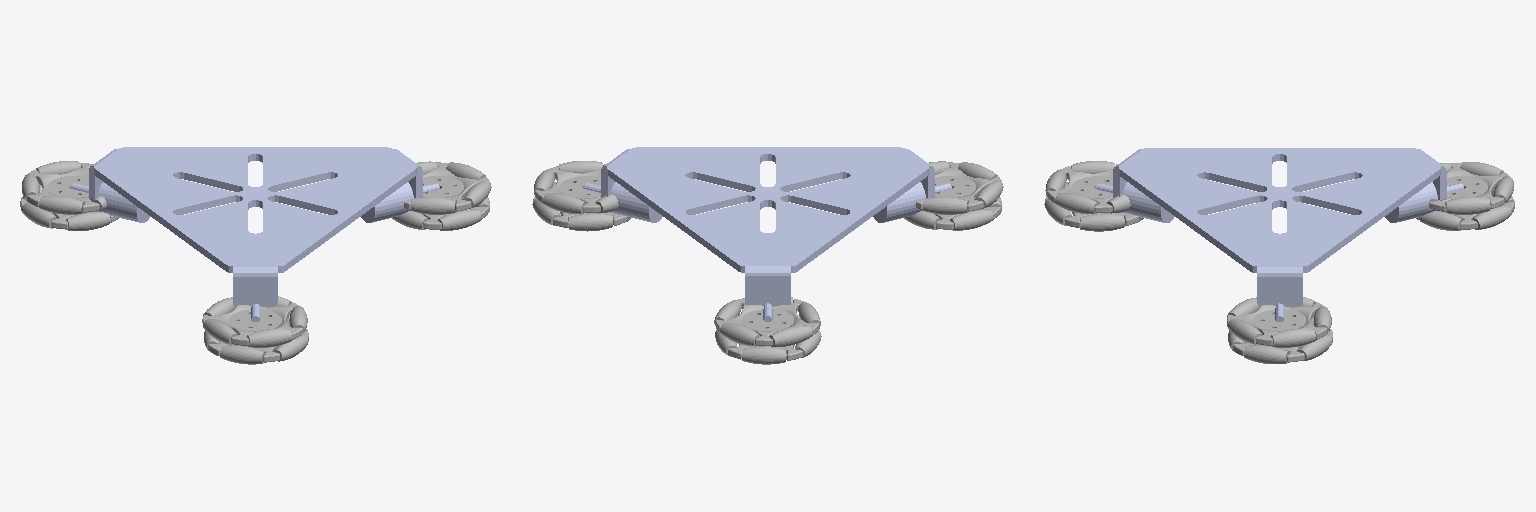
The robot description file, URDF, robot "my_robot":
<?xml version="1.0" encoding="utf-8"?>
<!-- This URDF was automatically created by SolidWorks to URDF Exporter! Originally created by [author] ([email redacted]) 
     Commit Version: 1.6.0-4-g7f85cfe  Build Version: 1.6.7995.38578
     For more information, please see http://wiki.ros.org/sw_urdf_exporter -->
<robot
  name="my_robot">
  <link
    name="base_link">
    <inertial>
      <origin
        xyz="-2.0457E-10 1.0027E-06 -0.010626"
        rpy="0 0 0" />
      <mass
        value="0.1739" />
      <inertia
        ixx="0.00038756"
        ixy="4.0592E-11"
        ixz="5.8826E-14"
        iyy="0.00038756"
        iyz="-2.0038E-12"
        izz="0.00076113" />
    </inertial>
    <visual>
      <origin
        xyz="0 0 0"
        rpy="0 0 0" />
      <geometry>
        <mesh
          filename="package://my_robot/meshes/base_link.STL" />
      </geometry>
      <material
        name="">
        <color
          rgba="0.79216 0.81961 0.93333 1" />
      </material>
    </visual>
    <collision>
      <origin
        xyz="0 0 0"
        rpy="0 0 0" />
      <geometry>
        <mesh
          filename="package://my_robot/meshes/base_link.STL" />
      </geometry>
    </collision>
  </link>
  <link
    name="one_wheel">
    <inertial>
      <origin
        xyz="-0.0065 -2.5059E-05 3.2713E-05"
        rpy="0 0 0" />
      <mass
        value="0.041916" />
      <inertia
        ixx="1.0241E-05"
        ixy="4.0511E-10"
        ixz="1.2253E-10"
        iyy="5.3458E-06"
        iyz="1.5733E-11"
        izz="5.3457E-06" />
    </inertial>
    <visual>
      <origin
        xyz="0 0 0"
        rpy="0 0 0" />
      <geometry>
        <mesh
          filename="package://my_robot/meshes/one_wheel.STL" />
      </geometry>
      <material
        name="">
        <color
          rgba="0.75294 0.75294 0.75294 1" />
      </material>
    </visual>
    <collision>
      <origin
        xyz="0 0 0"
        rpy="0 0 0" />
      <geometry>
        <mesh
          filename="package://my_robot/meshes/one_wheel.STL" />
      </geometry>
    </collision>
  </link>
  <joint
    name="onewheel"
    type="continuous">
    <origin
      xyz="0.13836 2.0681E-05 -0.0275"
      rpy="0 0 0.00025599" />
    <parent
      link="base_link" />
    <child
      link="one_wheel" />
    <axis
      xyz="-0.50022 -0.8659 0" />
    <limit
      effort="10"
      velocity="10" />
    <dynamics
      damping="0.1"
      friction="0.1" />
  </joint>
  <link
    name="two_wheel">
    <inertial>
      <origin
        xyz="-0.0065 -3.1891E-05 2.5819E-05"
        rpy="0 0 0" />
      <mass
        value="0.041916" />
      <inertia
        ixx="1.0241E-05"
        ixy="3.5179E-10"
        ixz="2.1262E-10"
        iyy="5.3458E-06"
        iyz="2.7348E-11"
        izz="5.3458E-06" />
    </inertial>
    <visual>
      <origin
        xyz="0 0 0"
        rpy="0 0 0" />
      <geometry>
        <mesh
          filename="package://my_robot/meshes/two_wheel.STL" />
      </geometry>
      <material
        name="">
        <color
          rgba="0.75294 0.75294 0.75294 1" />
      </material>
    </visual>
    <collision>
      <origin
        xyz="0 0 0"
        rpy="0 0 0" />
      <geometry>
        <mesh
          filename="package://my_robot/meshes/two_wheel.STL" />
      </geometry>
    </collision>
  </link>
  <joint
    name="twowheel"
    type="continuous">
    <origin
      xyz="-0.069178 0.11982 -0.0275"
      rpy="0 0 2.0944" />
    <parent
      link="base_link" />
    <child
      link="two_wheel" />
    <axis
      xyz="-0.49978 -0.86615 0" />
    <limit
      effort="10"
      velocity="10" />
    <dynamics
      damping="0.1"
      friction="0.1" />
  </joint>
  <link
    name="three_wheel">
    <inertial>
      <origin
        xyz="-0.0065 1.0242E-06 -4.1078E-05"
        rpy="0 0 0" />
      <mass
        value="0.041916" />
      <inertia
        ixx="1.0241E-05"
        ixy="-3.8354E-10"
        ixz="1.3557E-10"
        iyy="5.3458E-06"
        iyz="-1.3202E-11"
        izz="5.3457E-06" />
    </inertial>
    <visual>
      <origin
        xyz="0 0 0"
        rpy="0 0 0" />
      <geometry>
        <mesh
          filename="package://my_robot/meshes/three_wheel.STL" />
      </geometry>
      <material
        name="">
        <color
          rgba="0.75294 0.75294 0.75294 1" />
      </material>
    </visual>
    <collision>
      <origin
        xyz="0 0 0"
        rpy="0 0 0" />
      <geometry>
        <mesh
          filename="package://my_robot/meshes/three_wheel.STL" />
      </geometry>
    </collision>
  </link>
  <joint
    name="threewheel"
    type="continuous">
    <origin
      xyz="-0.069178 -0.11982 -0.0275"
      rpy="0 0 -2.0944" />
    <parent
      link="base_link" />
    <child
      link="three_wheel" />
    <axis
      xyz="-0.5 -0.86603 0" />
    <limit
      effort="10"
      velocity="10" />
    <dynamics
      damping="0.1"
      friction="0.1" />
  </joint>
</robot>

--- Render facts (derived) ---
The picture shows the robot from 3 angles, left to right: view 1: azimuth 30°, elevation 25°; view 2: azimuth 150°, elevation 25°; view 3: azimuth 270°, elevation 25°; orthographic projection.
Robot: my_robot — 4 links, 3 joints (3 continuous); root link base_link; default pose: every joint at zero.
Links seen in each view (by area): view 1: base_link, three_wheel, two_wheel, one_wheel; view 2: base_link, two_wheel, three_wheel, one_wheel; view 3: base_link, one_wheel, three_wheel, two_wheel.
Link boxes in pixels (bbox=[...]): base_link: bbox=[71, 147, 439, 321]; three_wheel: bbox=[202, 296, 308, 364]; two_wheel: bbox=[20, 161, 118, 230]; one_wheel: bbox=[392, 161, 491, 230]; base_link: bbox=[584, 147, 951, 321]; two_wheel: bbox=[714, 297, 821, 364]; three_wheel: bbox=[904, 161, 1003, 230]; one_wheel: bbox=[532, 161, 630, 231]; base_link: bbox=[1096, 148, 1463, 321]; one_wheel: bbox=[1227, 297, 1332, 363]; three_wheel: bbox=[1044, 161, 1143, 231]; two_wheel: bbox=[1416, 162, 1514, 230].
Size in the robot's own frame: 0.2779 by 0.3104 by 0.0461 metres.
4 mesh visuals loaded from 4 distinct referenced files (4 binary STL).